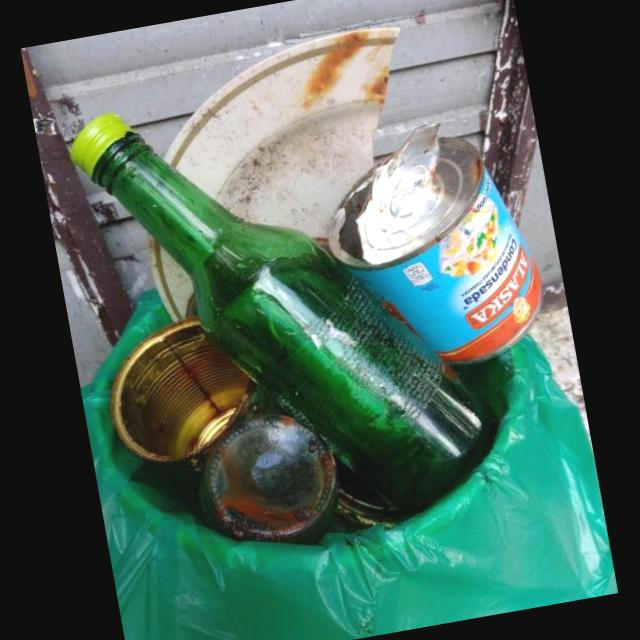chai_thuy_tinh: (70, 113, 500, 517), (197, 417, 341, 546)
nhom: (327, 123, 542, 366), (110, 317, 273, 494)
